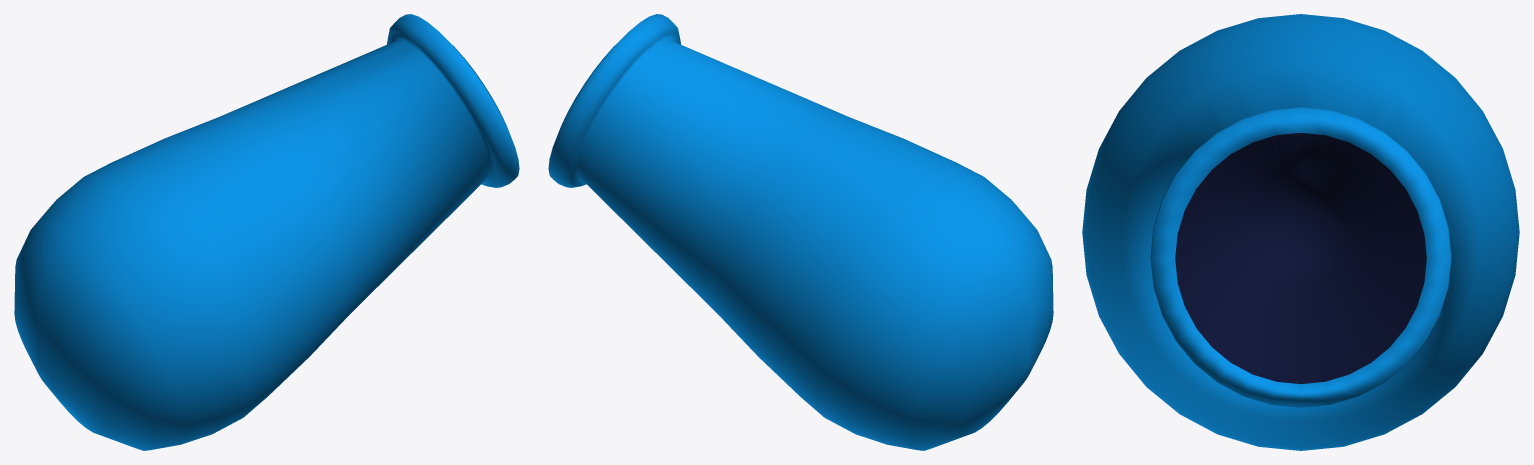
Rendered from top.fbx.
The picture shows the model from 3 angles, left to right: view 1: azimuth 30°, elevation 25°; view 2: azimuth 150°, elevation 25°; view 3: azimuth 270°, elevation 25°; orthographic projection. The views are drawn at different scales.
Visible parts, largest first — view 1: Cylinder.002; view 2: Cylinder.002; view 3: Cylinder.002.
Boxes of the visible parts, <box> form: Cylinder.002: <box>14,14,519,450</box>; Cylinder.002: <box>548,14,1053,450</box>; Cylinder.002: <box>1082,14,1519,450</box>.
Bounding box in the file's own units: 756 × 545 × 414.
